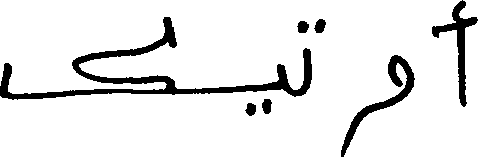أ: (431, 0, 476, 107)
ت: (299, 16, 326, 96)
ك: (0, 15, 175, 101)
م: (339, 52, 414, 155)
ي: (245, 62, 288, 116)
